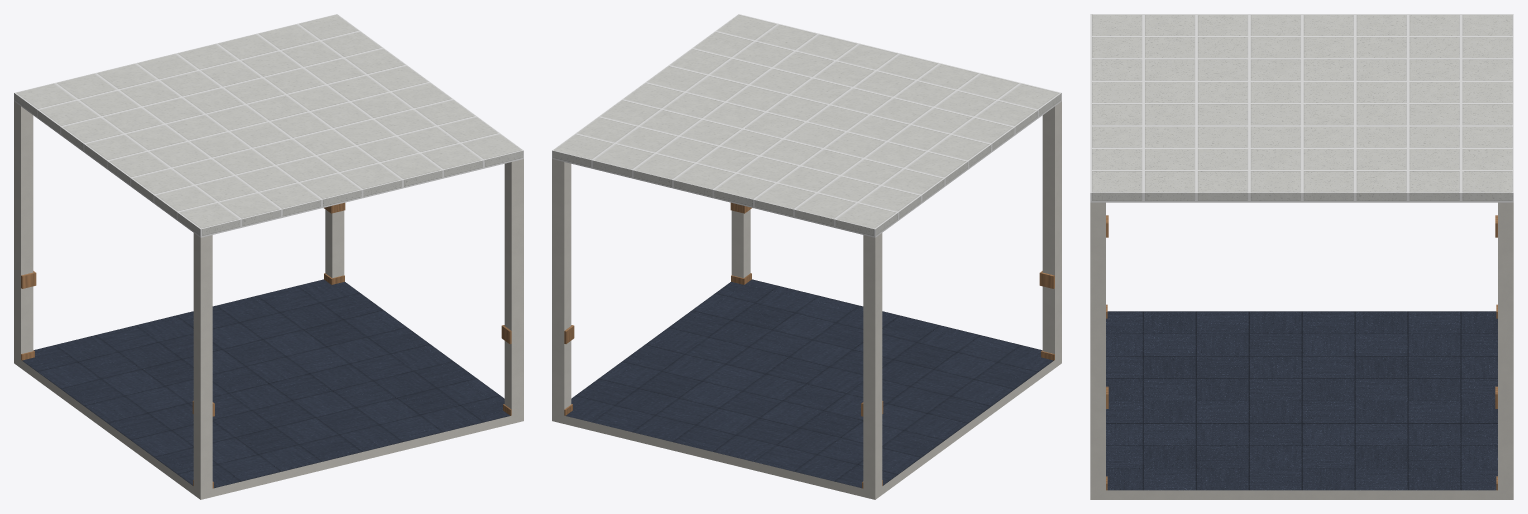
The model's file is Corridor_Office_Cross_NoLight.glb.
3 renders of one model, left to right at view 1: azimuth 30°, elevation 25°; view 2: azimuth 150°, elevation 25°; view 3: azimuth 270°, elevation 25°, orthographic. The views are drawn at different scales.
Parts seen in each view (by area): view 1: Corridor_Office_Cross_NoLight, Corridor_Office_Cross_NoLight_Ceiling; view 2: Corridor_Office_Cross_NoLight, Corridor_Office_Cross_NoLight_Ceiling; view 3: Corridor_Office_Cross_NoLight, Corridor_Office_Cross_NoLight_Ceiling.
Boxes of the visible parts, <box> form: Corridor_Office_Cross_NoLight: <box>14,101,523,499</box>; Corridor_Office_Cross_NoLight_Ceiling: <box>14,14,523,237</box>; Corridor_Office_Cross_NoLight: <box>552,101,1061,499</box>; Corridor_Office_Cross_NoLight_Ceiling: <box>552,14,1061,237</box>; Corridor_Office_Cross_NoLight: <box>1090,202,1513,499</box>; Corridor_Office_Cross_NoLight_Ceiling: <box>1090,14,1513,202</box>.
Bounding box in the file's own units: 4 × 3.2 × 4.
4 materials, 4 textured.
